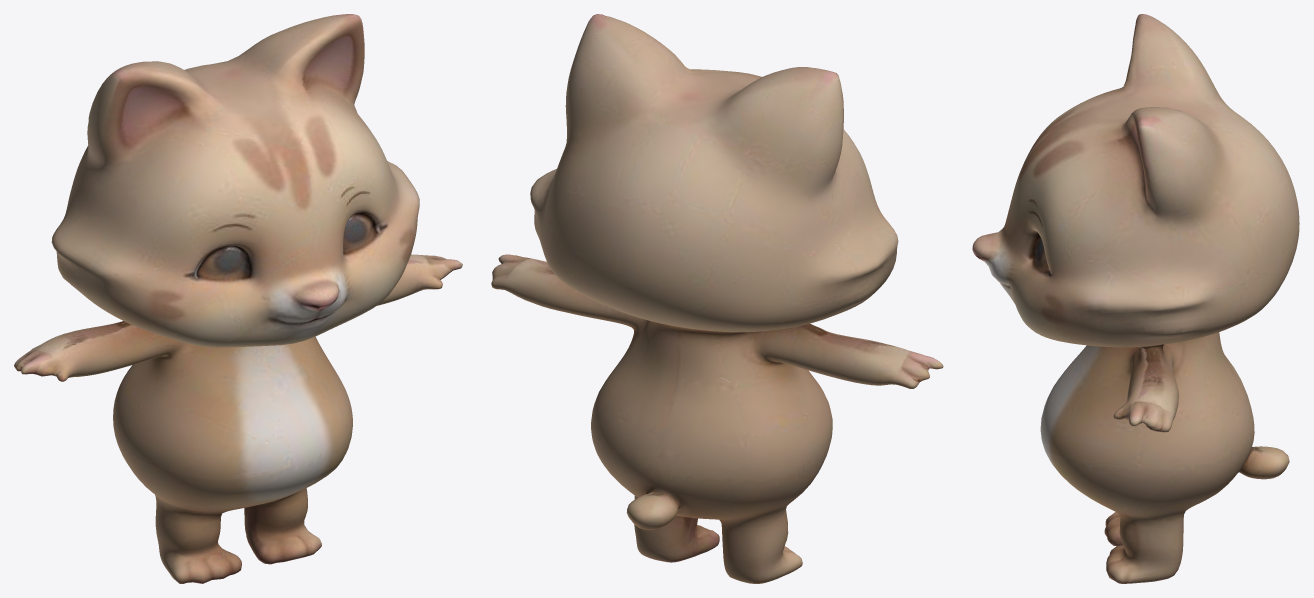
Rendered from chonky-cat.glb.
3 renders of one model, left to right at view 1: azimuth 30°, elevation 25°; view 2: azimuth 150°, elevation 25°; view 3: azimuth 270°, elevation 25°, orthographic. The views are drawn at different scales.
Visible parts, largest first — view 1: ChonkyCat; view 2: ChonkyCat; view 3: ChonkyCat.
Part boxes in pixels (x1=…): ChonkyCat: x1=14, y1=14, x2=462, y2=583; ChonkyCat: x1=491, y1=14, x2=943, y2=583; ChonkyCat: x1=972, y1=14, x2=1299, y2=583.
Size of the model in its own units: 1.24 by 1.38 by 0.8408.
1 material, 1 textured.
